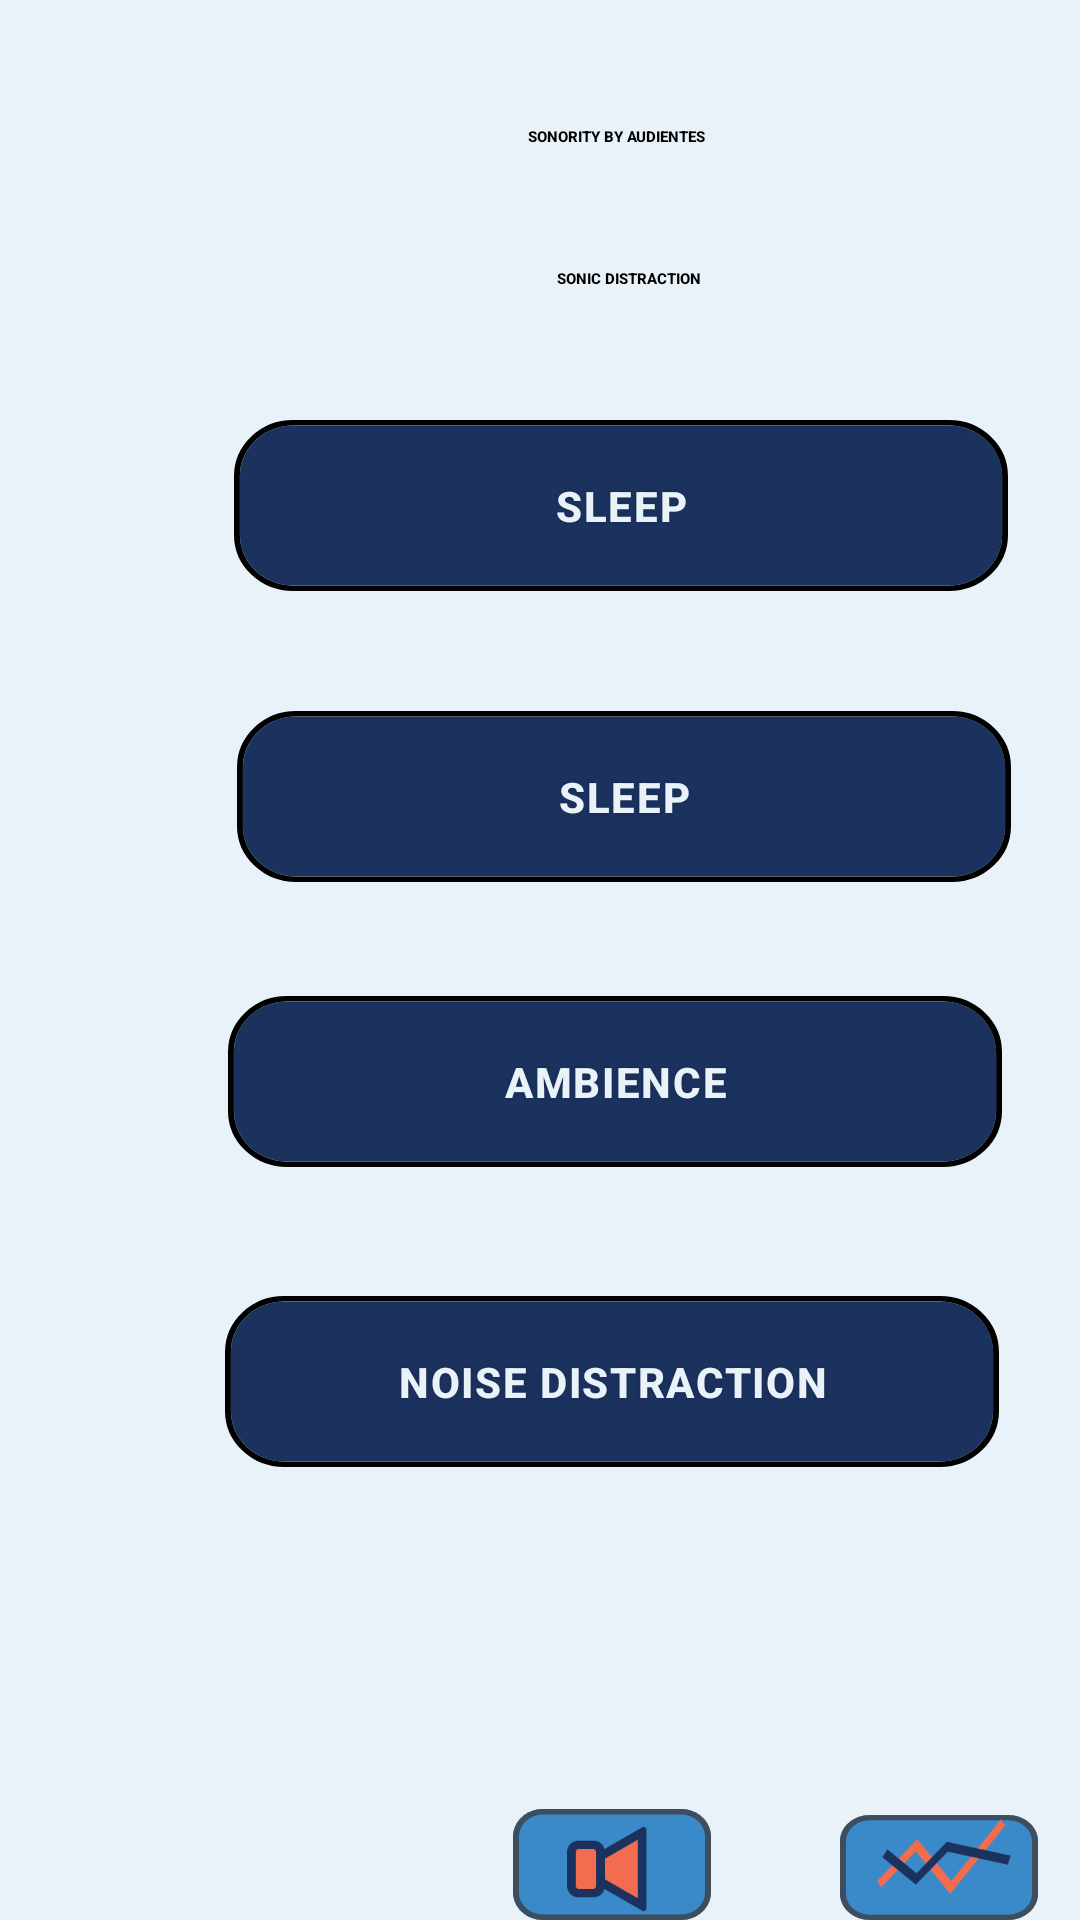

Screen size 1080×1920. Icon name, then its center in pixels as (x=x, y=y):
graph: (x=943, y=1858)
sound: (x=607, y=1869)
